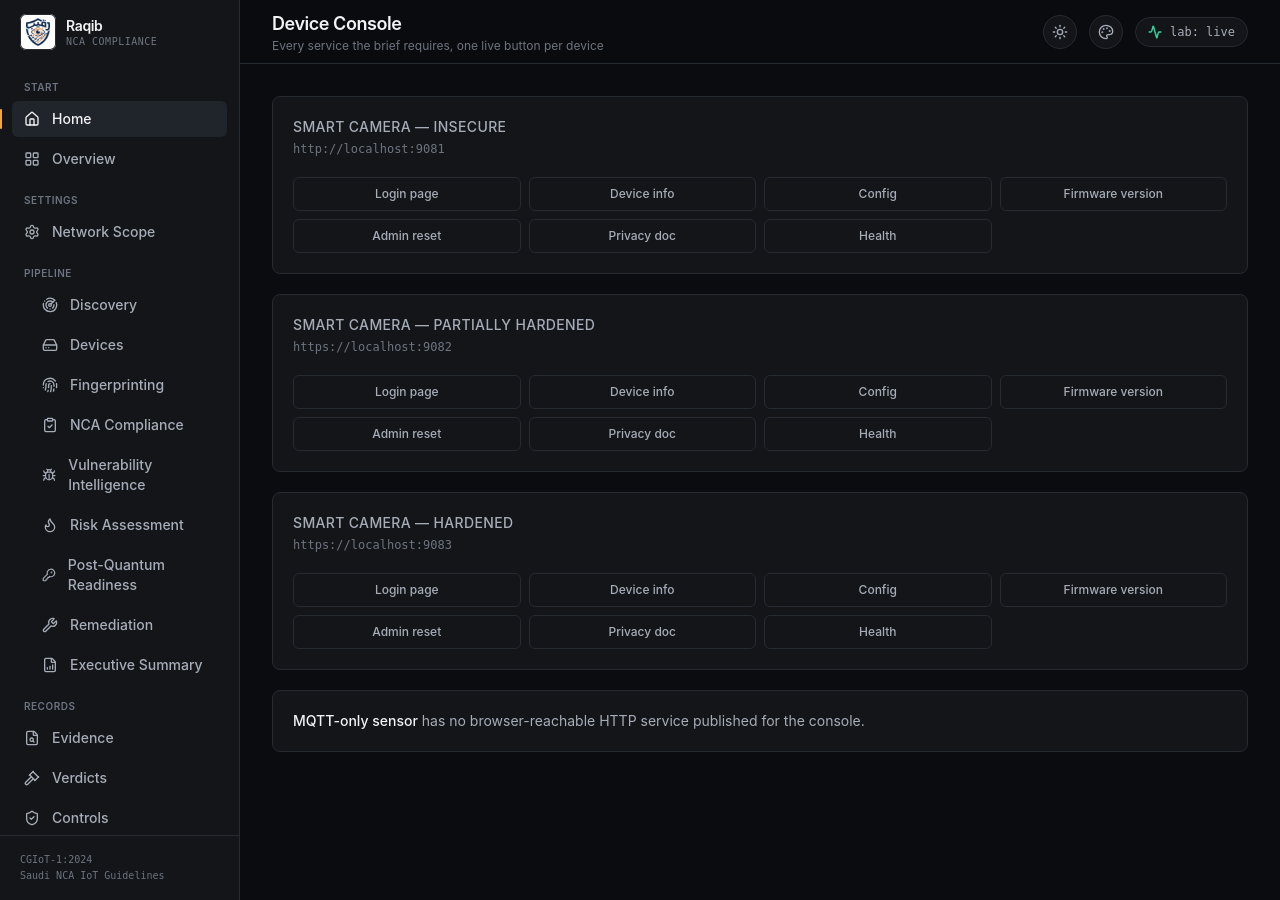
Test: DeviceConsolePage › shows a helpful cert hint when an HTTPS device fetch fails with no status
This screenshot has width=1280, height=900.
Check: the text "https://localhost:9082" is shown, box x1=293 y1=340 x2=452 y2=354
Click the button "Device info" below "https://localhost:9082" at coordinates (642, 392), box x1=528 y1=375 x2=756 y2=409
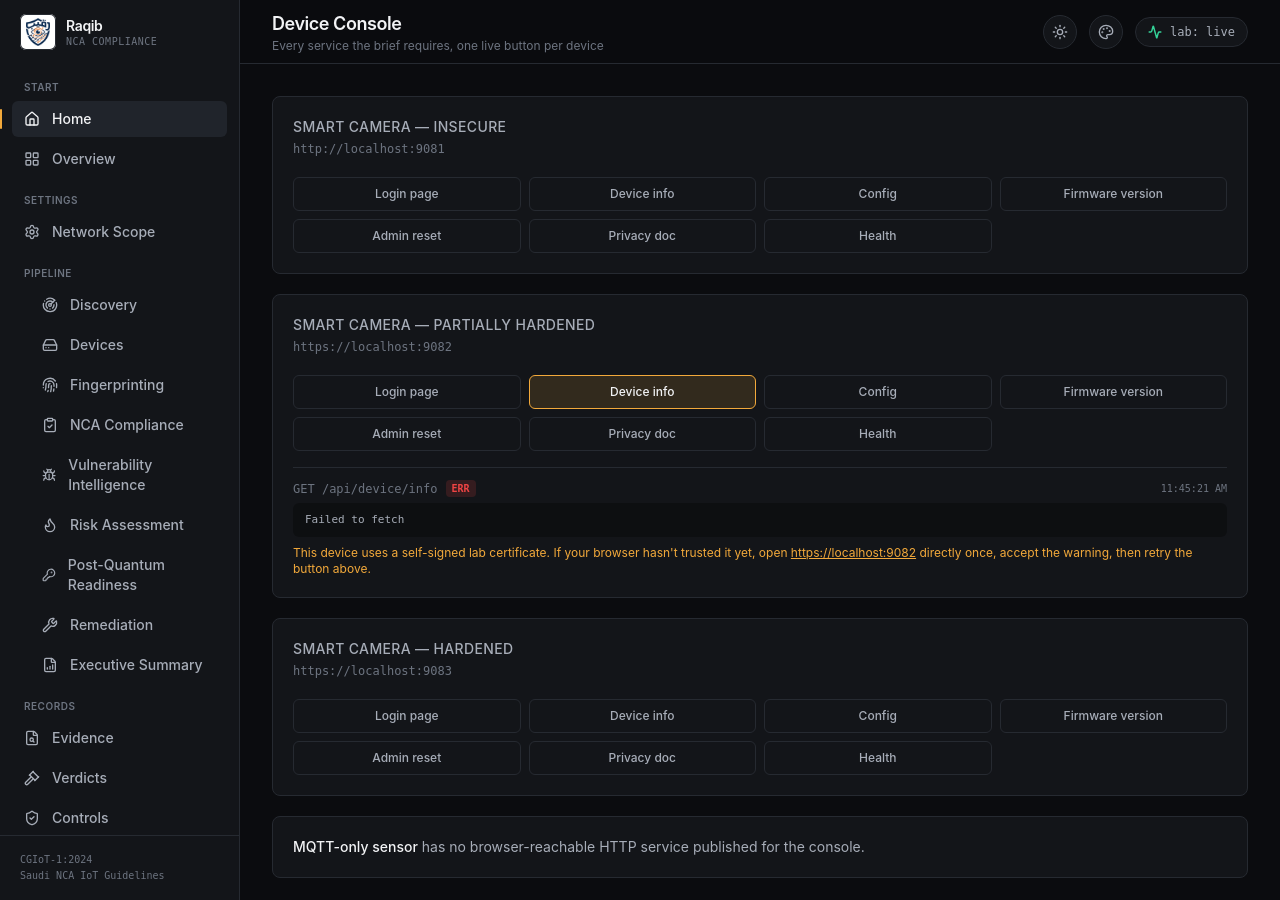
Check: the text "self-signed lab certificate" is shown, box x1=293 y1=545 x2=788 y2=560
